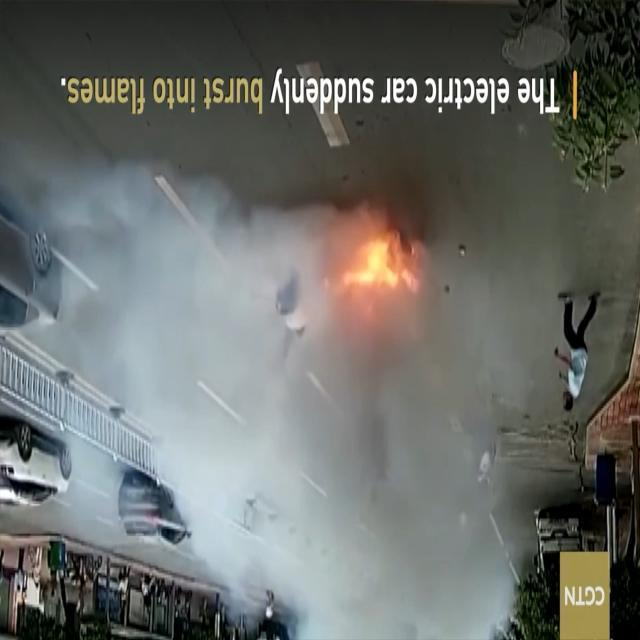fire: (329, 222, 422, 309)
